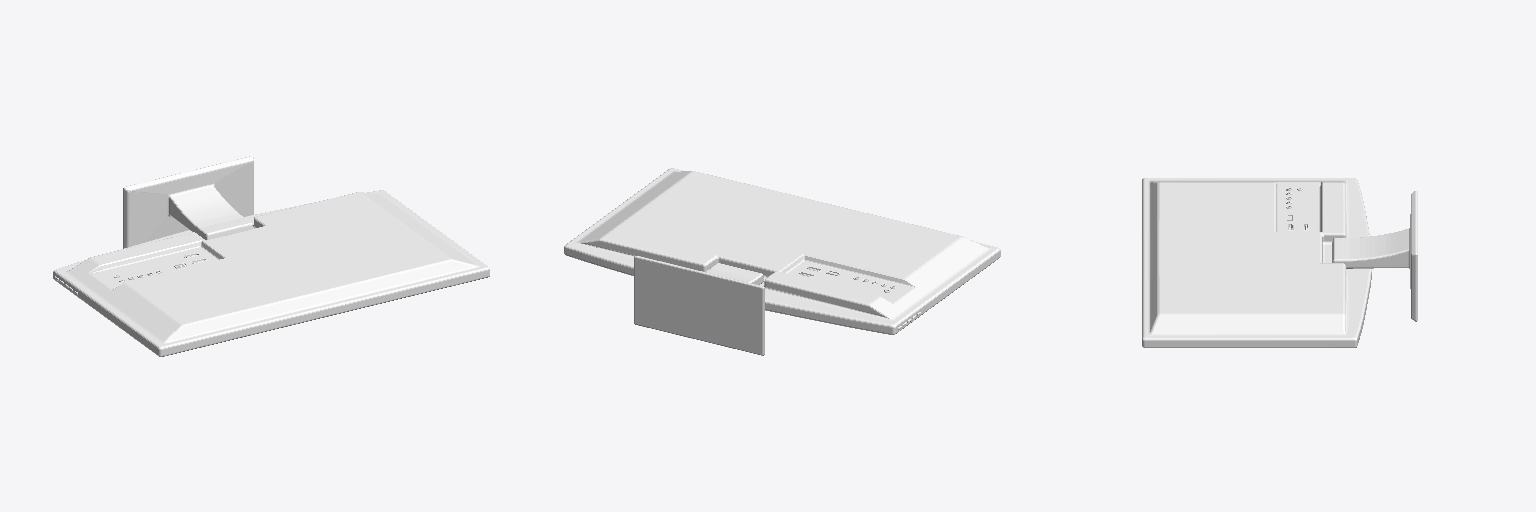
File: tele.obj
3 renders of one model, left to right at view 1: azimuth 30°, elevation 25°; view 2: azimuth 150°, elevation 25°; view 3: azimuth 270°, elevation 25°, orthographic.
Parts seen in each view (by area): view 1: Object.1; view 2: Object.1; view 3: Object.1.
Part boxes in pixels (x1,y1,x2,y2): Object.1: (53,156,489,356); Object.1: (564,168,1000,355); Object.1: (1142,178,1417,347).
Size of the model in its own units: 92.29 by 18.31 by 66.26.